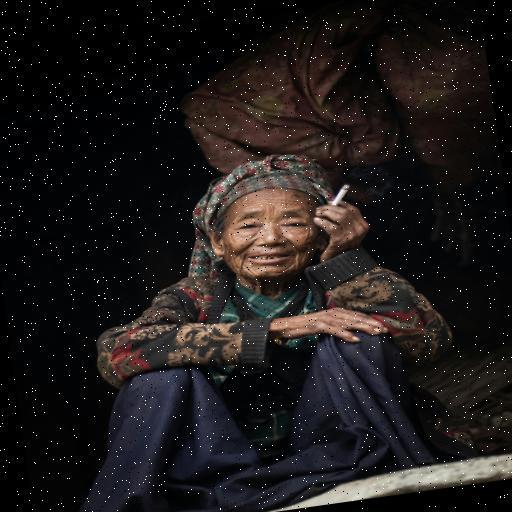terdeteksi pegang rokok: (288, 169, 386, 270)
